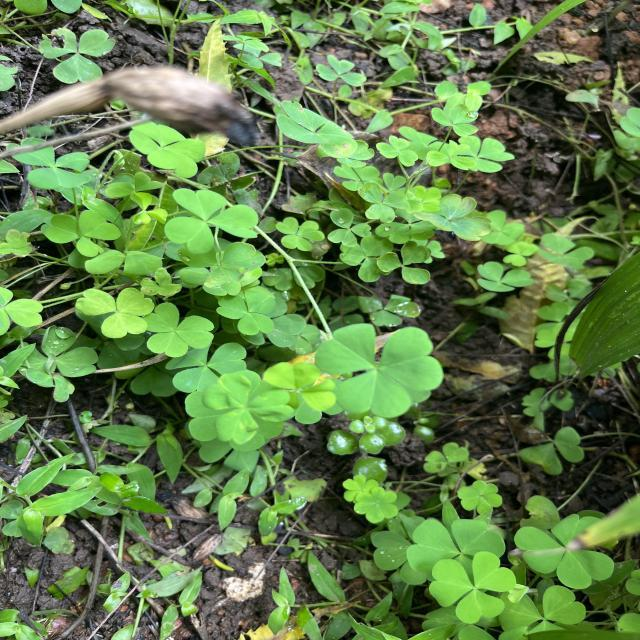Oxalis corniculata: (314, 320, 446, 420), (513, 513, 616, 590), (202, 372, 298, 446), (428, 550, 518, 625), (163, 187, 260, 255), (276, 100, 358, 159), (128, 121, 207, 179), (6, 137, 92, 190), (74, 286, 156, 339), (140, 302, 216, 358), (413, 193, 493, 242), (44, 209, 122, 258), (216, 290, 276, 336), (375, 240, 432, 285), (358, 182, 410, 224), (275, 216, 326, 252), (327, 208, 372, 248), (353, 486, 399, 524), (430, 104, 480, 138), (456, 479, 503, 515), (426, 139, 478, 171), (375, 134, 419, 168), (140, 267, 183, 297)
